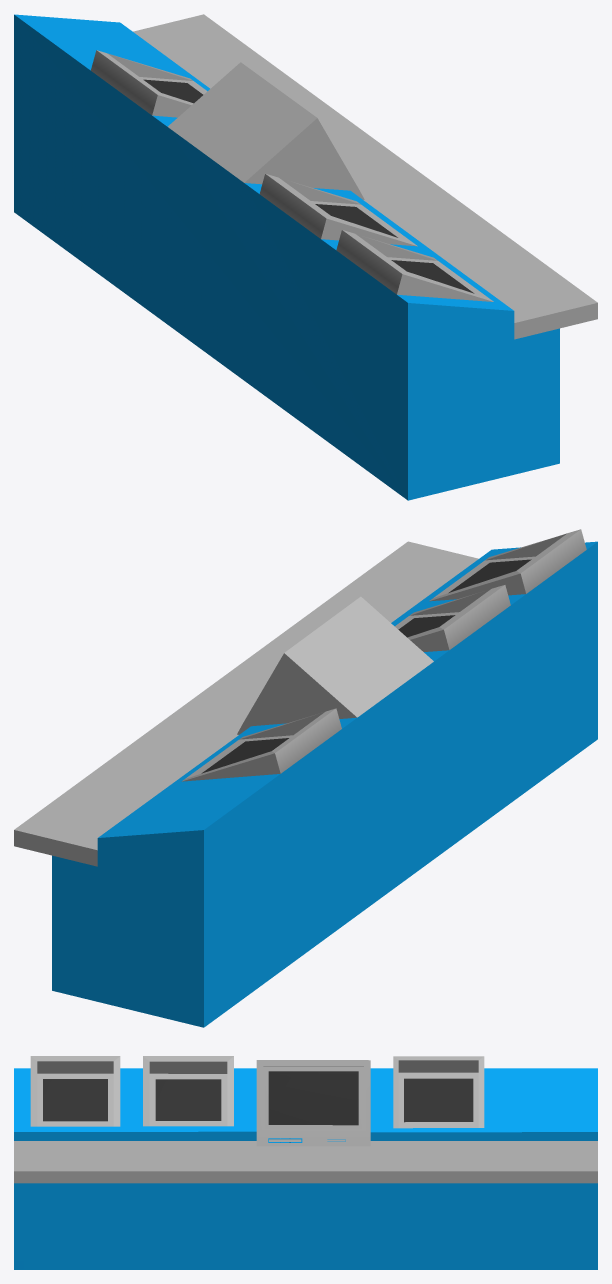
The model's file is A_ComputerConsole.fbx.
3 views of the same model, one above another, from view 1: azimuth 30°, elevation 25°; view 2: azimuth 150°, elevation 25°; view 3: azimuth 270°, elevation 25° (orthographic). The views are drawn at different scales.
Parts seen in each view (by area): view 1: A_ComputerConsole; view 2: A_ComputerConsole; view 3: A_ComputerConsole.
Part boxes in pixels (bbox=[...]): A_ComputerConsole: bbox=[14, 14, 597, 500]; A_ComputerConsole: bbox=[14, 529, 597, 1027]; A_ComputerConsole: bbox=[14, 1056, 597, 1269].
Bounding box in the file's own units: 4.54 × 5.59 × 16.3.
3 materials, 3 textured.
